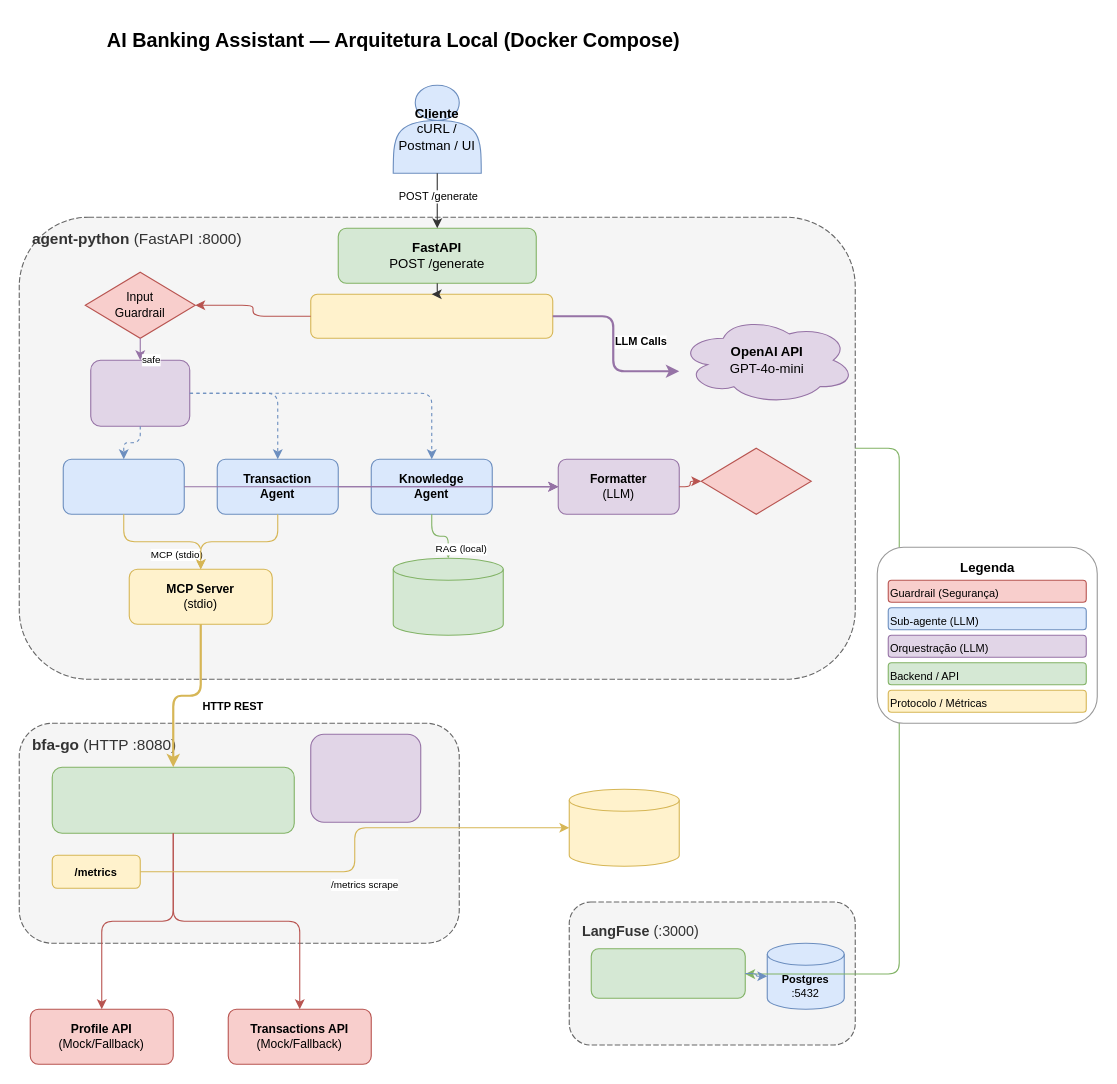
Image size: 1117x1084. Some labels were removed from this diagram. The box of each missing label's shape, as (x1, y1, x2, y2) in pixels:
ChromaDB RAG (local): (392, 557, 503, 635)
Cross-cutting Cache • Circuit Breaker Retry • Bulkhead Logging • Tracing: (310, 733, 421, 822)
Handlers /v1/customers/{id}/profile /v1/customers/{id}/transactions: (51, 766, 294, 833)
LangFuse Server Traces / Spans / Costs: (590, 948, 745, 998)
Output Guardrail: (700, 447, 811, 514)
Planner (LLM): (90, 359, 190, 426)
Profile Agent: (62, 458, 184, 514)
Prometheus :9090: (568, 788, 679, 866)
Supervisor (LangGraph): (310, 293, 553, 338)
